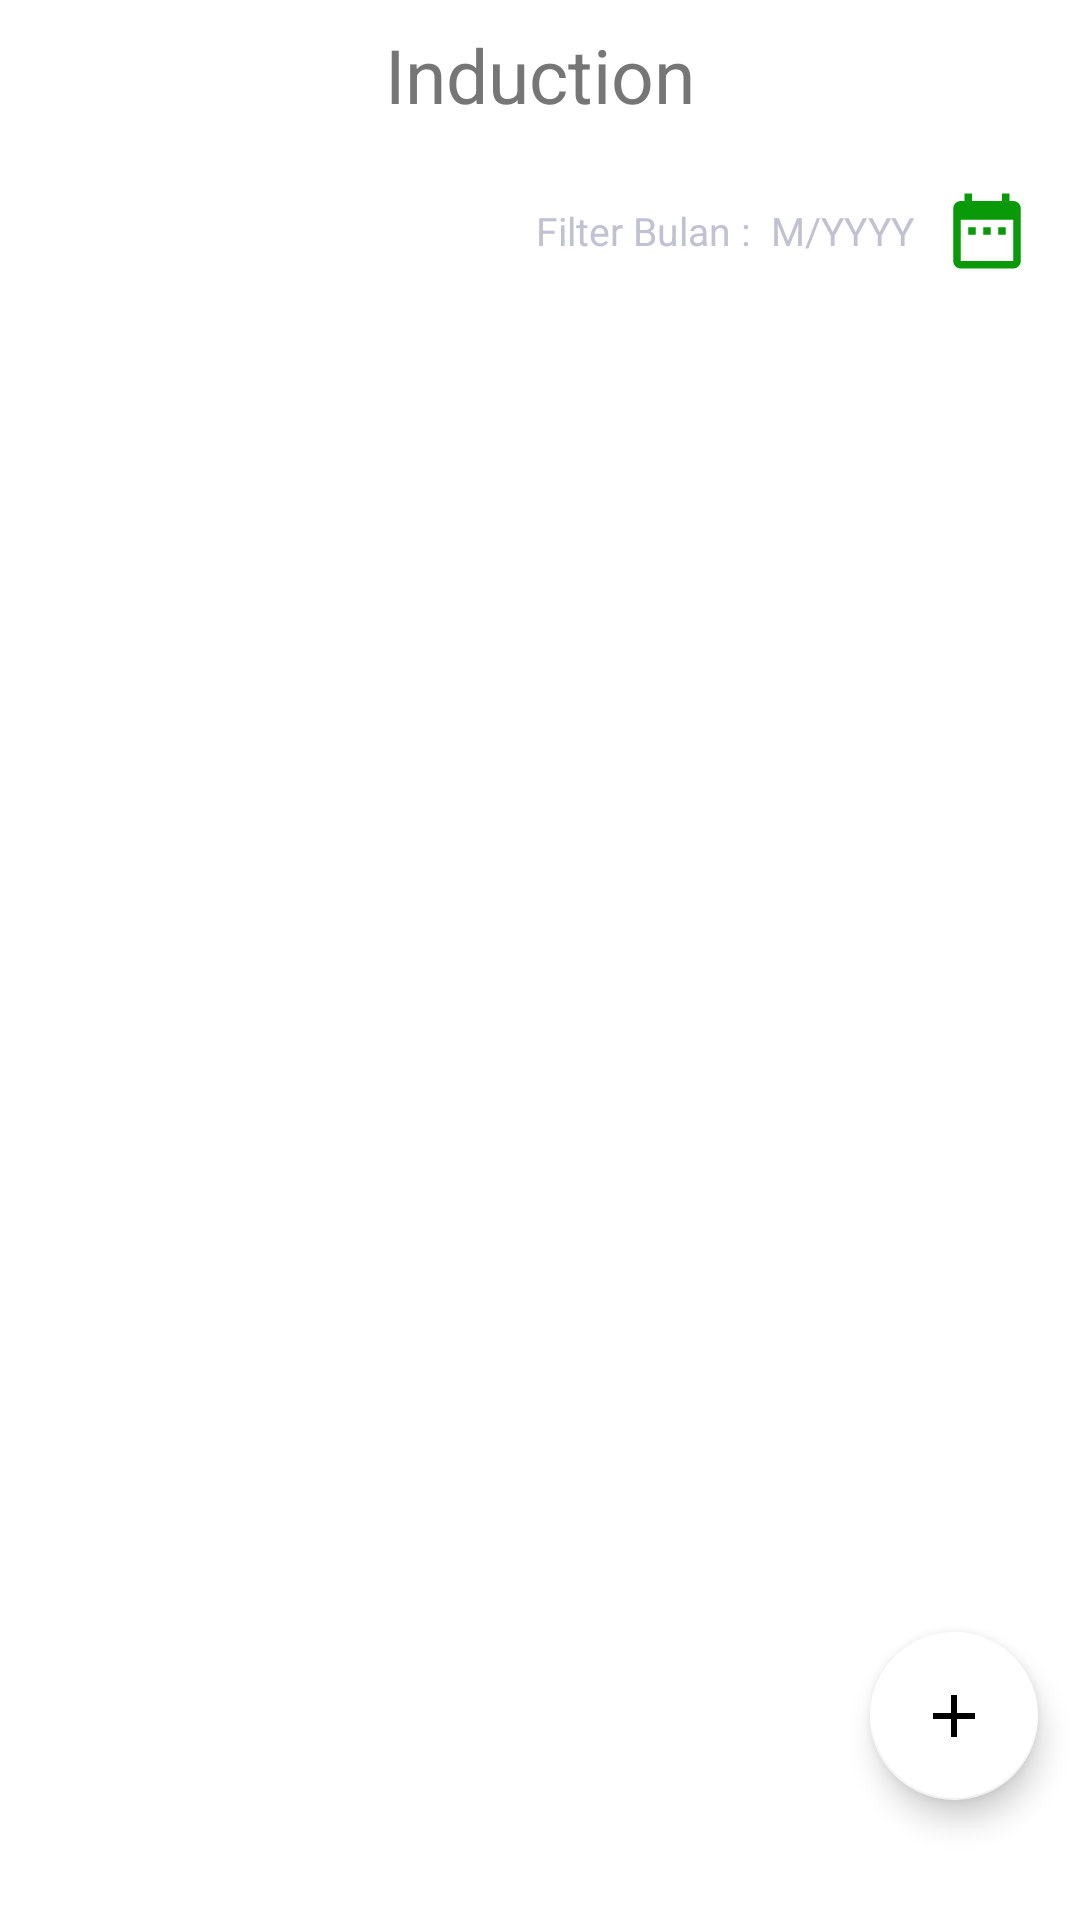

Named icons in this screenshot (1080px x 1920px) and their bounding boxes, BBox(x1, y1, x2, y2):
filtertanggal: BBox(953, 193, 1021, 269)
tambah: BBox(876, 1695, 1038, 1800)
